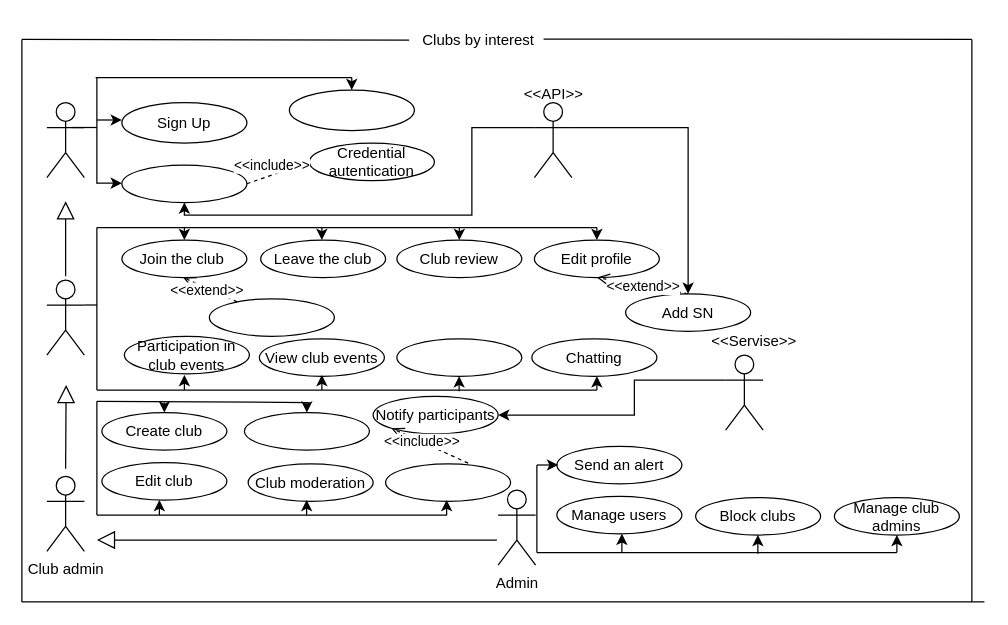
This 1008x625 diagram has some shape labels left out. Each missing label, with the centre of its shape:
Add friends: (x=459, y=357)
Check out famous clubs: (x=271, y=317)
Create event: (x=447, y=481)
Delete club: (x=306, y=430)
Guest: (x=65, y=139)
Notification: (x=743, y=392)
Search for clubs: (x=351, y=110)
Sign In: (x=184, y=183)
Social networcs: (x=552, y=139)
User: (x=65, y=317)
